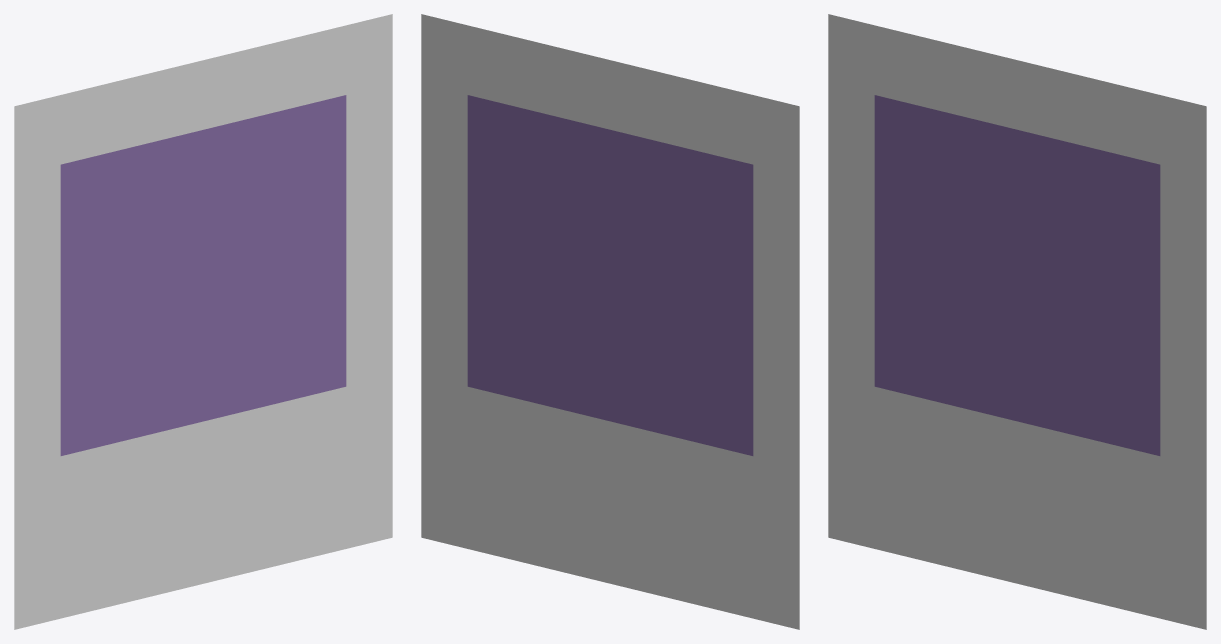
The model's file is Polaroid 4.fbx.
3 views of the same model, side by side, from view 1: azimuth 30°, elevation 25°; view 2: azimuth 150°, elevation 25°; view 3: azimuth 330°, elevation 25° (orthographic).
Parts seen in each view (by area): view 1: Polaroid 4; view 2: Polaroid 4; view 3: Polaroid 4.
Part boxes in pixels (box(x1,y1,x2,y2)): Polaroid 4: box(14, 14, 392, 629); Polaroid 4: box(421, 14, 799, 629); Polaroid 4: box(828, 14, 1206, 629).
Bounding box in the file's own units: 138 × 182 × 2.96e-05.
